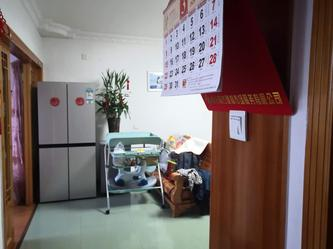switch: (230, 114, 246, 139)
